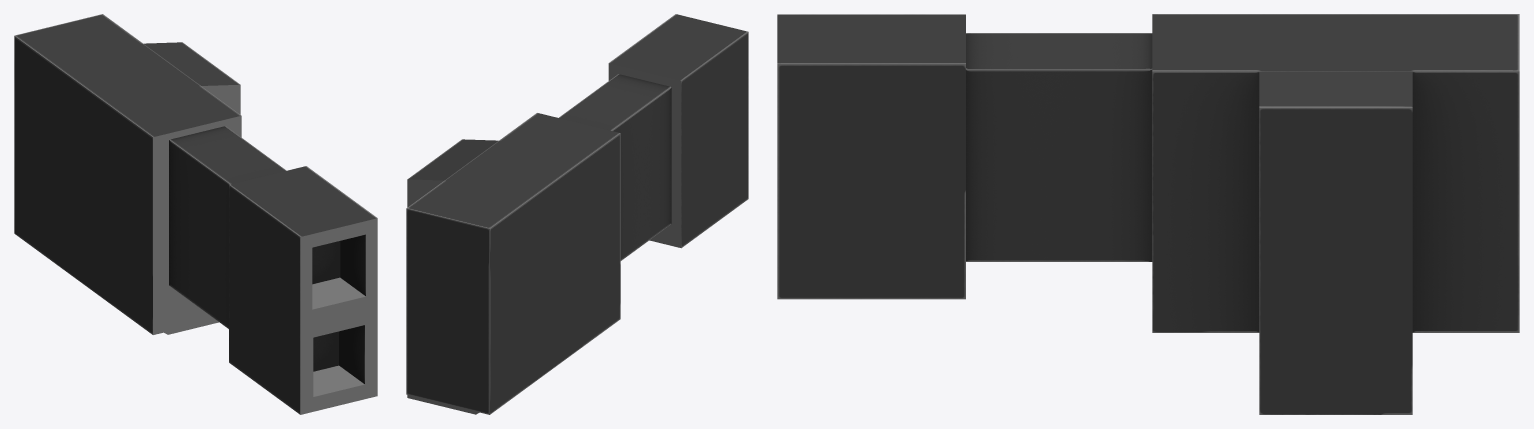
3 views of the same model, side by side, from view 1: azimuth 30°, elevation 25°; view 2: azimuth 150°, elevation 25°; view 3: azimuth 270°, elevation 25° (orthographic). The views are drawn at different scales.
Visible parts, largest first — view 1: Cube.003; view 2: Cube.003; view 3: Cube.003.
Boxes of the visible parts, bbox=[...] form: Cube.003: bbox=[14, 14, 377, 414]; Cube.003: bbox=[406, 14, 748, 414]; Cube.003: bbox=[777, 14, 1519, 414].
Size of the model in its own units: 0.5866 by 1.07 by 2.23.
Materials: 1 (1 with a texture image).
